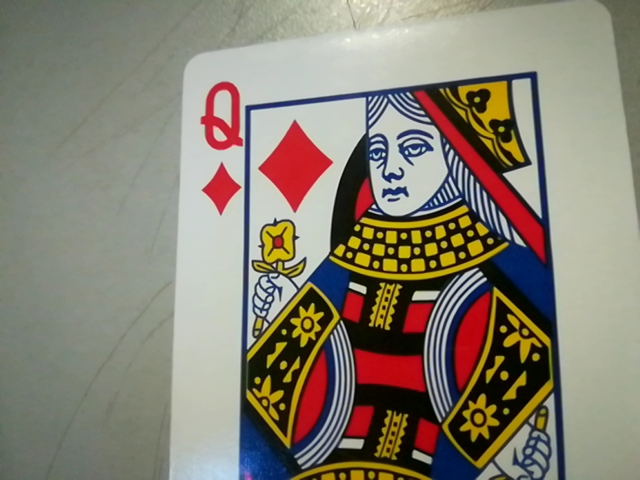fk q: (189, 73, 251, 213)
